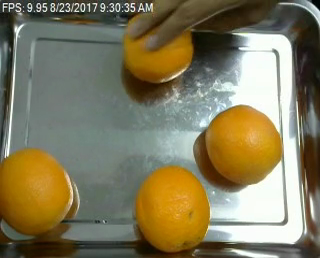Orange: (133, 166, 211, 252), (205, 105, 285, 185), (1, 149, 75, 234)
